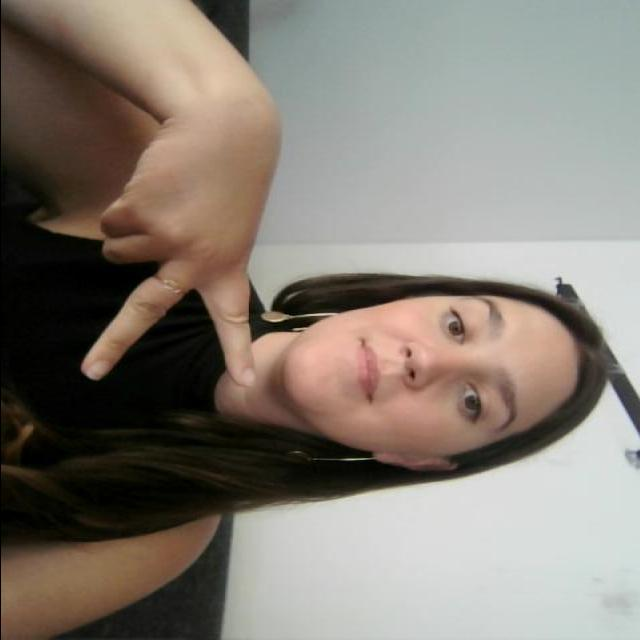Scissors: (70, 76, 292, 365)
